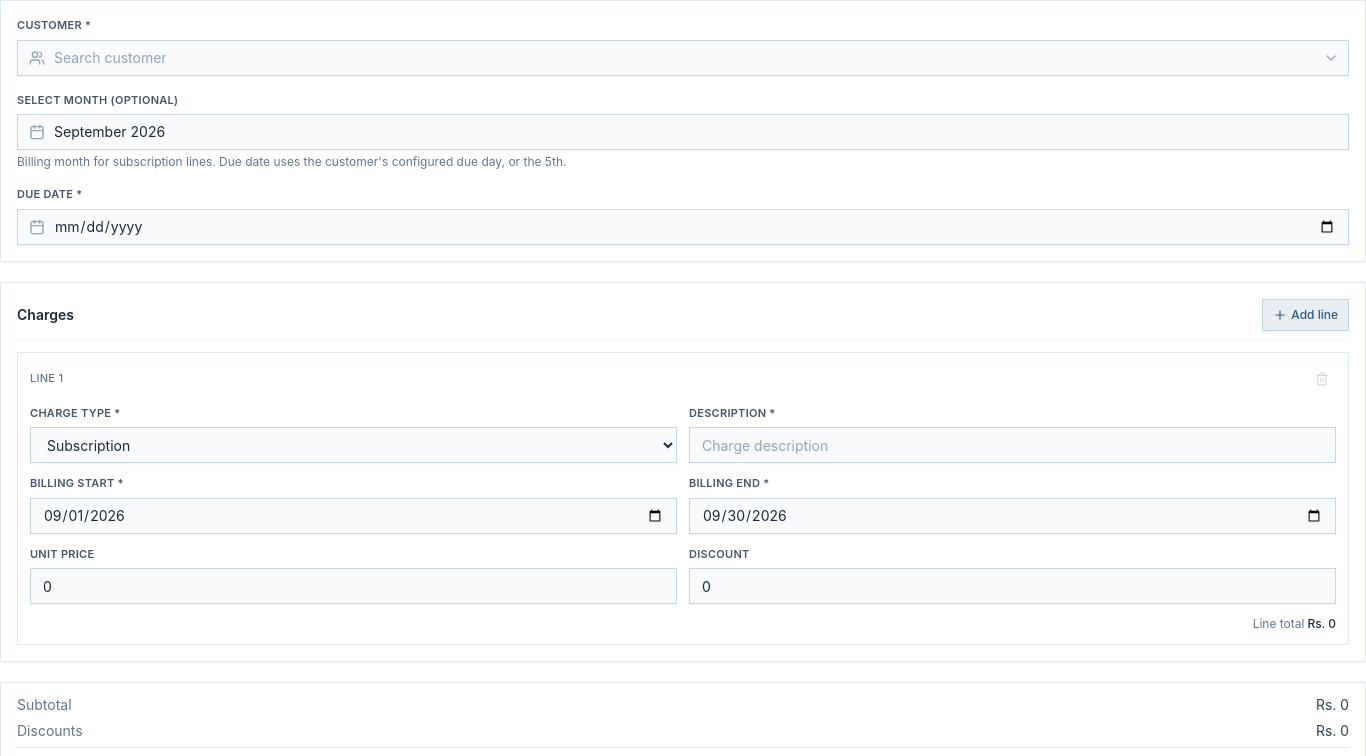
it: InvoiceForm multiline builder › starts with one subscription line and lets the user add more
The width and height of the screenshot is (1366, 756).
Check: the heading "Charges" is shown, box [17,304,74,324]
Check: the text "Line 1" is shown, box [30,370,63,387]
Click the button "Add line".
click(1306, 314)  # box [1262,298,1349,330]
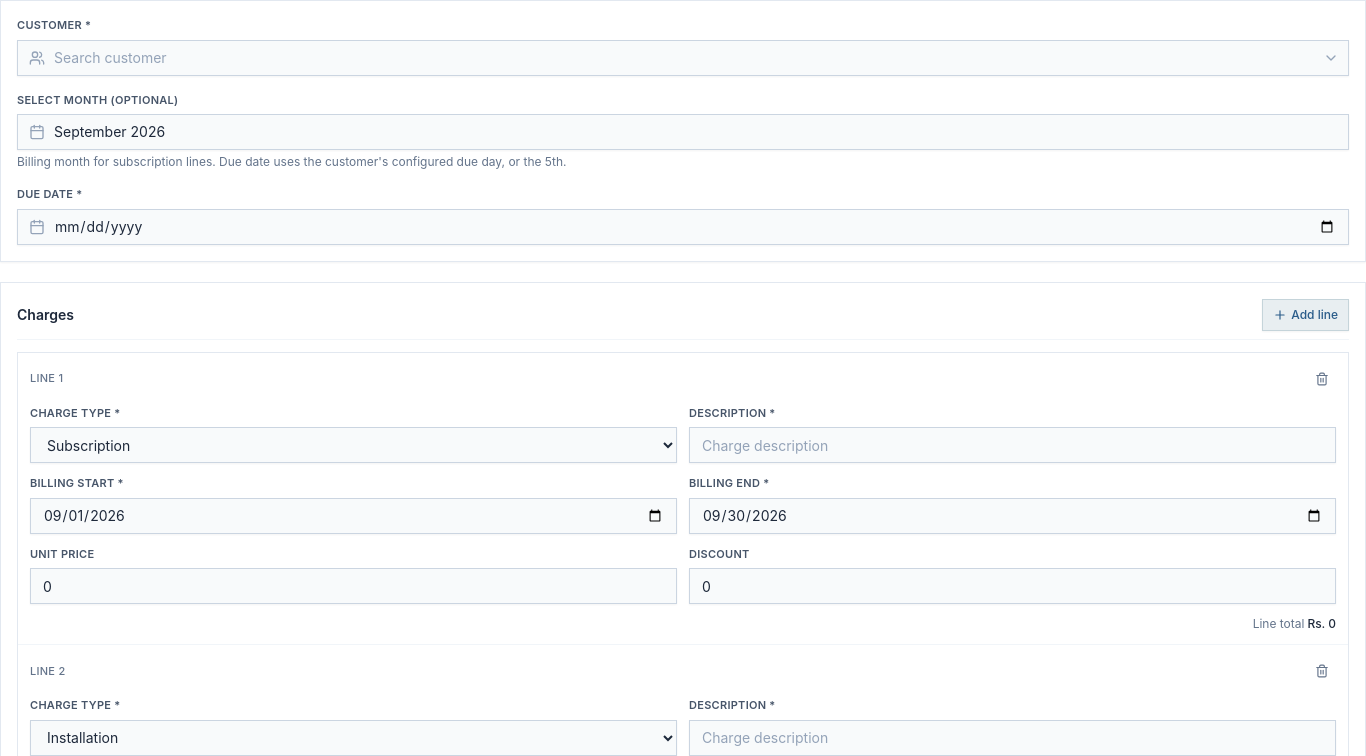
Check: the text "Line 2" is shown, box [30,663,66,679]
